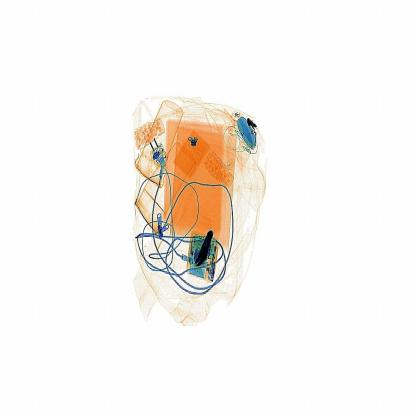knife: (188, 227, 215, 275)
